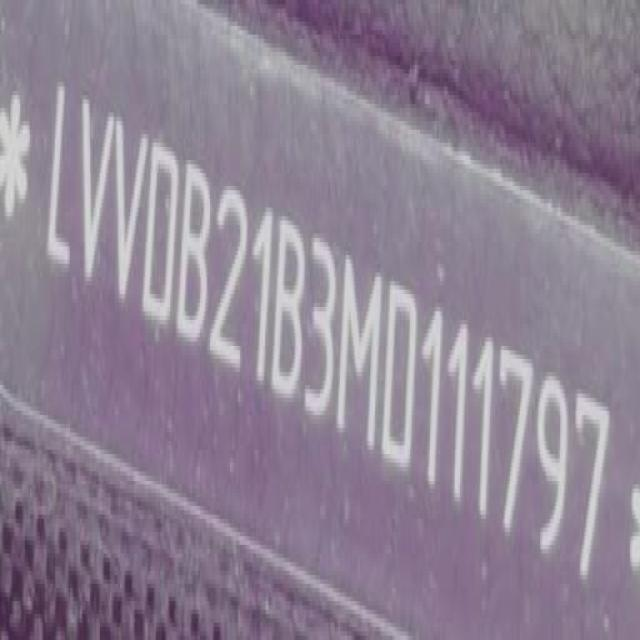1: (471, 333, 499, 527), (420, 303, 446, 498), (448, 308, 470, 508), (252, 197, 273, 394)
2: (210, 167, 245, 381)
3: (302, 231, 339, 429)
7: (572, 380, 612, 591), (499, 333, 534, 561)
9: (537, 368, 567, 568)
B: (175, 162, 211, 365), (272, 220, 308, 413)
D: (382, 268, 416, 482), (142, 139, 177, 338)
L: (44, 78, 76, 274)
M: (337, 261, 384, 466)
V: (79, 83, 115, 293), (113, 106, 149, 309)
